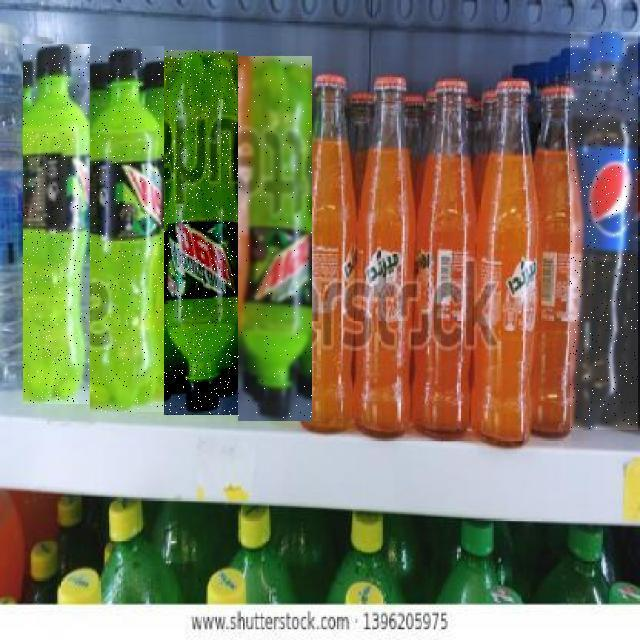Drinks: (91, 46, 165, 412), (571, 32, 639, 430), (239, 56, 313, 421), (165, 50, 239, 415), (23, 44, 91, 404)
